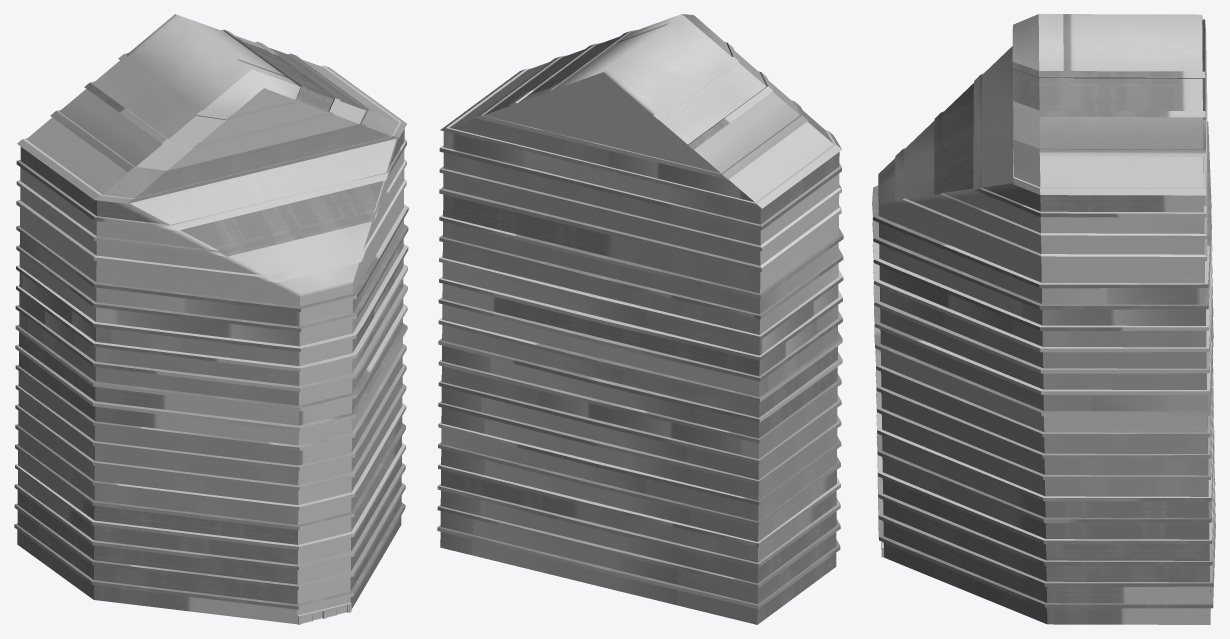
The model's file is genericBuildingA.fbx.
The picture shows the model from 3 angles, left to right: view 1: azimuth 30°, elevation 25°; view 2: azimuth 150°, elevation 25°; view 3: azimuth 270°, elevation 25°; orthographic projection. The views are drawn at different scales.
Visible parts, largest first — view 1: GenericBuilding; view 2: GenericBuilding; view 3: GenericBuilding.
Boxes of the visible parts, <box> form: GenericBuilding: <box>14,14,408,624</box>; GenericBuilding: <box>437,14,843,624</box>; GenericBuilding: <box>872,14,1215,624</box>.
Size of the model in its own units: 4200 by 6334 by 3718.
